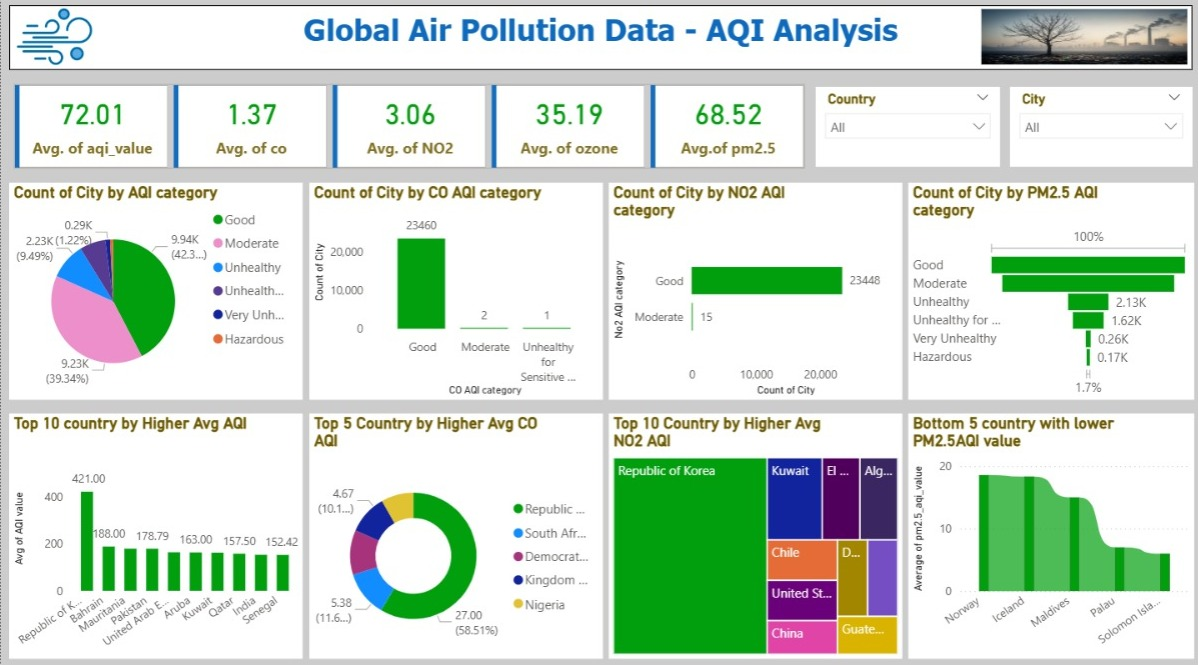

What the dashboard file says about the page in this screenshot:
{"tool":"powerbi","page":{"name":"Page 1","canvas":[1280,720],"ordinal":0},"visuals":[{"type":"textbox","box":[8.8,11.7,1257.6,69.1],"z":0},{"type":"image","box":[1037.8,10.7,228.6,69.1],"z":1000},{"type":"image","box":[0,0,113.8,90.5],"z":2000},{"type":"cardVisual","fields":{"Data":["Avg(global_air_pollution_data.aqi_value)","Avg(global_air_pollution_data.co_aqi_value)","Avg(global_air_pollution_data.no2_aqi_value)","Avg(global_air_pollution_data.ozone_aqi_value)","Avg(global_air_pollution_data.pm2.5_aqi_value)"]},"box":[8.8,90.5,855.9,100.2],"z":3000},{"type":"slicer","fields":{"Values":["global_air_pollution_data.country_name"]},"box":[866.6,98.2,196.5,84.6],"z":4000},{"type":"slicer","fields":{"Values":["global_air_pollution_data.city_name"]},"box":[1072.8,98.2,193.6,84.6],"z":5000},{"type":"pieChart","title":"Count of City by AQI category","fields":{"Category":["global_air_pollution_data.aqi_category"],"Y":["CountNonNull(global_air_pollution_data.city_name)"]},"box":[8.9,200.4,312.1,231.4],"z":6000},{"type":"columnChart","title":"Count of City by CO AQI category","fields":{"Y":["CountNonNull(global_air_pollution_data.aqi_category)"],"Category":["global_air_pollution_data.co_aqi_category"]},"box":[328.1,200.4,312.1,231.4],"z":7000},{"type":"barChart","title":"Count of City by NO2 AQI category","fields":{"Y":["CountNonNull(global_air_pollution_data.city_name)"],"Category":["global_air_pollution_data.no2_aqi_category"]},"box":[646.4,200.4,312.1,231.4],"z":8000},{"type":"funnel","title":"Count of City by PM2.5 AQI category","fields":{"Y":["CountNonNull(global_air_pollution_data.city_name)"],"Category":["global_air_pollution_data.pm2.5_aqi_category"]},"box":[964.7,200.4,304.1,231.4],"z":8001},{"type":"columnChart","title":"Top 10 country by Higher Avg AQI ","fields":{"Category":["global_air_pollution_data.country_name"],"Y":["Avg(global_air_pollution_data.aqi_value)"]},"box":[8.9,446,312.1,260.7],"z":8002},{"type":"donutChart","title":"Top 5 Country by Higher Avg CO AQI","fields":{"Category":["global_air_pollution_data.country_name"],"Y":["Avg(global_air_pollution_data.co_aqi_value)"]},"box":[328,446,312,261],"z":8003},{"type":"treemap","title":"Top 10 Country by Higher Avg NO2  AQI","fields":{"Group":["global_air_pollution_data.country_name"],"Values":["Avg(global_air_pollution_data.no2_aqi_value)"]},"box":[646,446,312,261],"z":8004},{"type":"ribbonChart","title":"Bottom 5 country with lower PM2.5AQI value","fields":{"Category":["global_air_pollution_data.country_name"],"Y":["Avg(global_air_pollution_data.pm2.5_aqi_value)"]},"box":[965,446,304,261],"z":8005}]}

Visuals, with their boxes in screenshot pixels (x1, y1, x2, y2), scaled from the page's 1280x720 canvas onto the 1198x665 screenshot:
textbox: l=8, t=11, r=1185, b=75
image: l=971, t=10, r=1185, b=74
image: l=0, t=0, r=107, b=84
cardVisual - Avg(global_air_pollution_data.aqi_value) x Avg(global_air_pollution_data.co_aqi_value): l=8, t=84, r=809, b=176
slicer - global_air_pollution_data.country_name: l=811, t=91, r=995, b=169
slicer - global_air_pollution_data.city_name: l=1004, t=91, r=1185, b=169
"Count of City by AQI category" pieChart: l=8, t=185, r=300, b=399
"Count of City by CO AQI category" columnChart: l=307, t=185, r=599, b=399
"Count of City by NO2 AQI category" barChart: l=605, t=185, r=897, b=399
"Count of City by PM2.5 AQI category" funnel: l=903, t=185, r=1188, b=399
"Top 10 country by Higher Avg AQI " columnChart: l=8, t=412, r=300, b=653
"Top 5 Country by Higher Avg CO AQI" donutChart: l=307, t=412, r=599, b=653
"Top 10 Country by Higher Avg NO2  AQI" treemap: l=605, t=412, r=897, b=653
"Bottom 5 country with lower PM2.5AQI value" ribbonChart: l=903, t=412, r=1188, b=653
